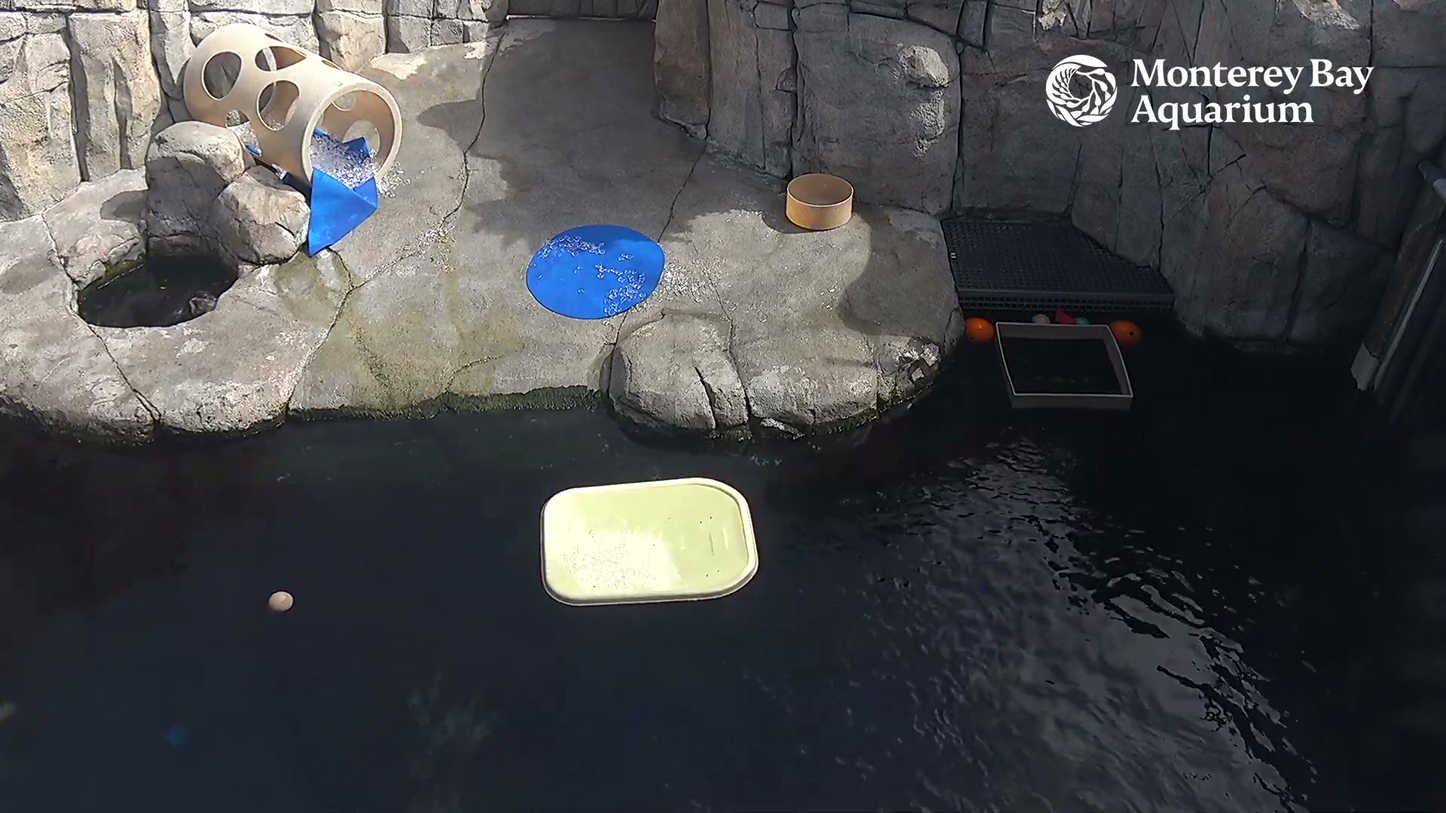Southern Sea Otter: (167, 292, 225, 315)
